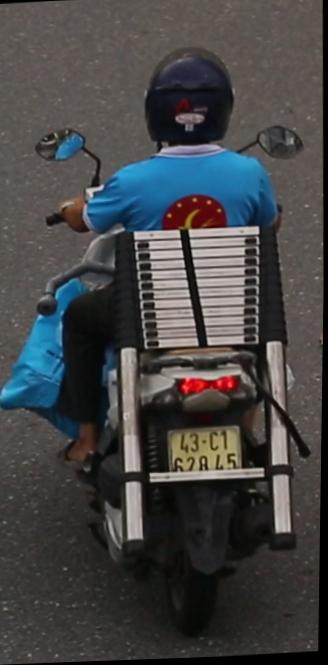LP: (156, 415, 253, 476)
helmet: (132, 31, 250, 169)
